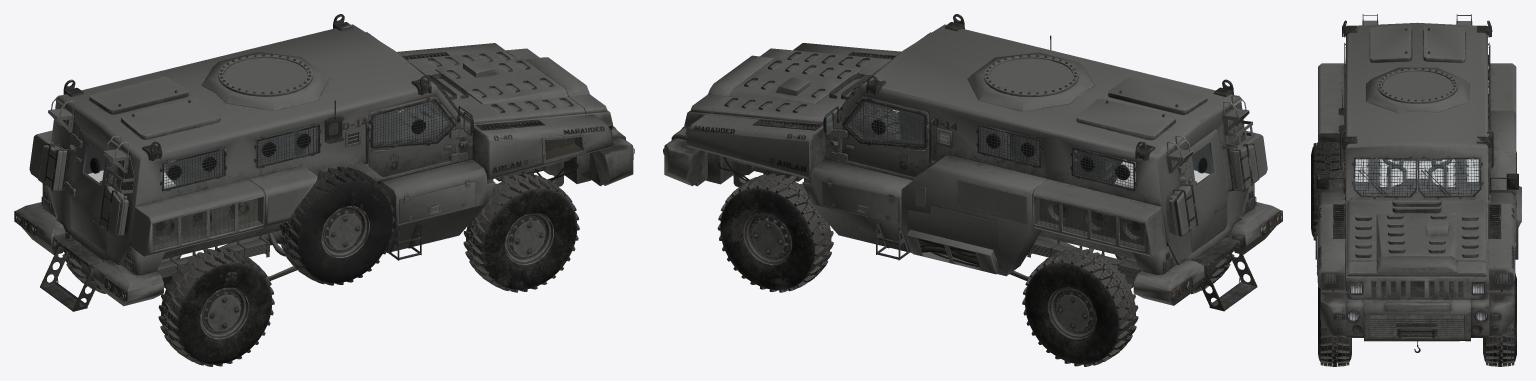
Rendered from marauder.glb.
The picture shows the model from 3 angles, left to right: view 1: azimuth 30°, elevation 25°; view 2: azimuth 150°, elevation 25°; view 3: azimuth 270°, elevation 25°; orthographic projection. The views are drawn at different scales.
Visible parts, largest first — view 1: Paramount_Marauder; view 2: Paramount_Marauder; view 3: Paramount_Marauder.
Part boxes in pixels (<box>): Paramount_Marauder: <box>14,14,634,366</box>; Paramount_Marauder: <box>663,14,1282,366</box>; Paramount_Marauder: <box>1311,14,1521,366</box>.
Size of the model in its own units: 5.99 by 2.43 by 2.4.
10 materials, 10 textured.
